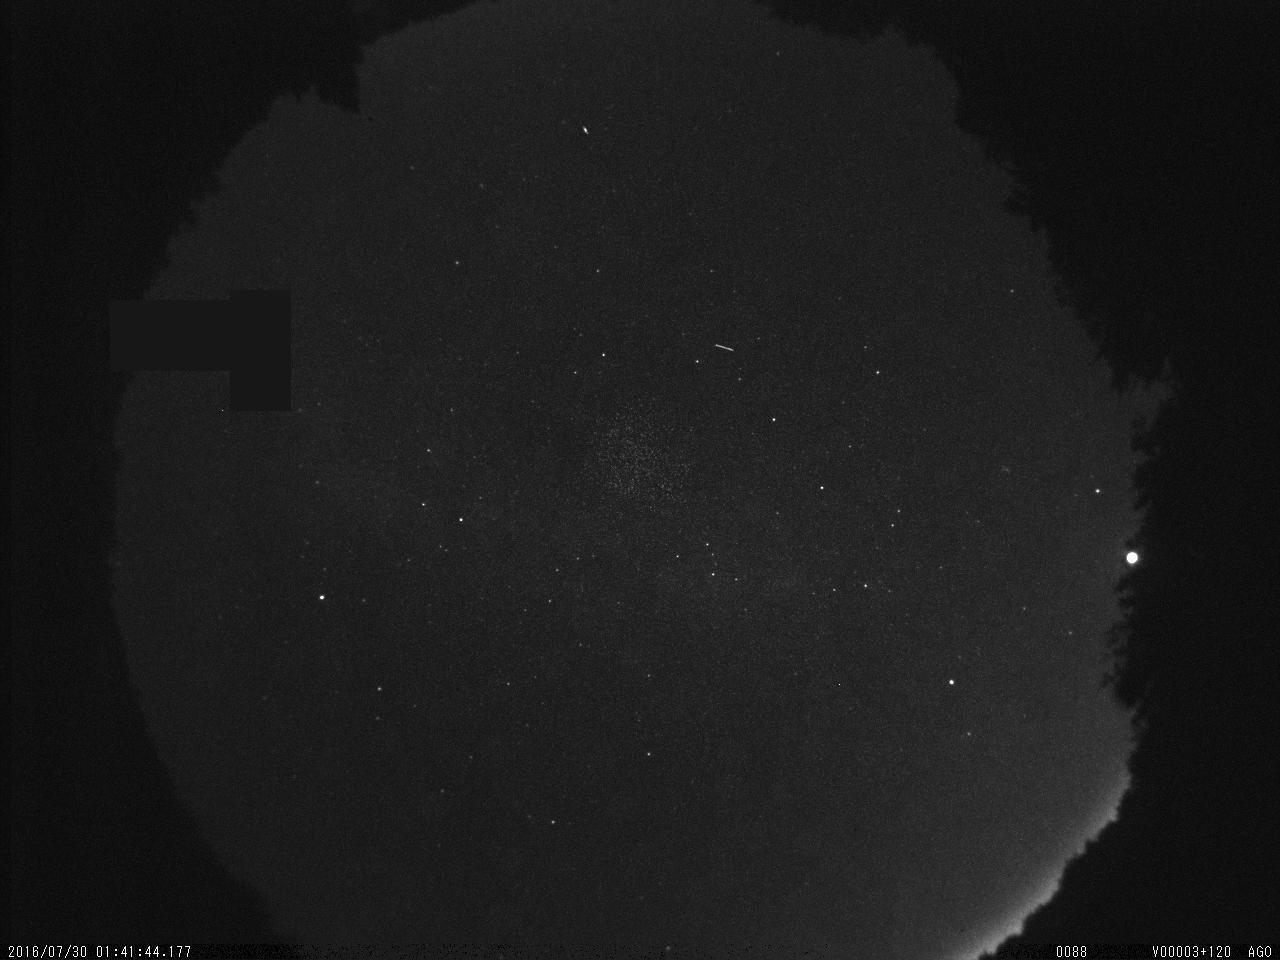satelite: (708, 334, 741, 366)
